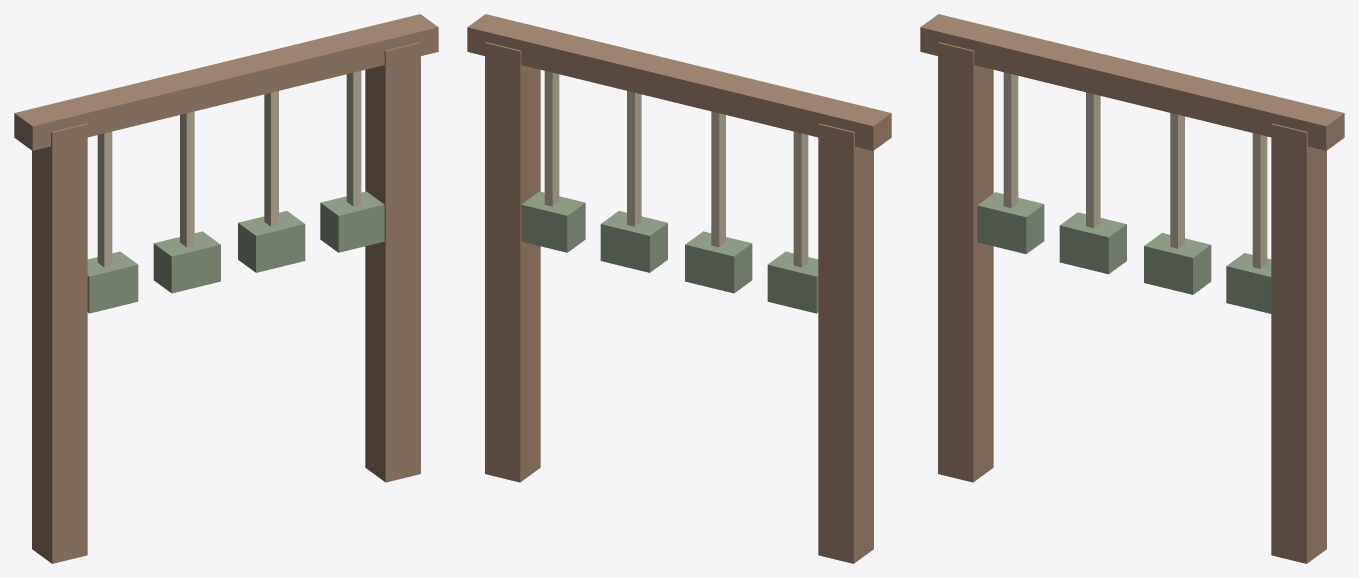
File: village_drying_lines.glb
3 views of the same model, side by side, from view 1: azimuth 30°, elevation 25°; view 2: azimuth 150°, elevation 25°; view 3: azimuth 330°, elevation 25° (orthographic).
Parts seen in each view (by area): view 1: box_0, box_1, box_2, box_6, box_8, box_10, box_4, box_3, box_9, box_5, box_7; view 2: box_0, box_1, box_2, box_6, box_8, box_10, box_4, box_3, box_9, box_5, box_7; view 3: box_1, box_0, box_2, box_8, box_4, box_6, box_10, box_9, box_3, box_7, box_5.
Boxes of the visible parts, bbox=[...] form: box_0: bbox=[32, 123, 87, 563]; box_1: bbox=[365, 42, 420, 482]; box_2: bbox=[14, 14, 438, 150]; box_6: bbox=[153, 231, 220, 293]; box_8: bbox=[238, 211, 305, 272]; box_10: bbox=[320, 191, 384, 252]; box_4: bbox=[87, 251, 138, 313]; box_3: bbox=[97, 131, 112, 267]; box_9: bbox=[346, 71, 361, 206]; box_5: bbox=[180, 111, 194, 247]; box_7: bbox=[264, 91, 278, 226]; box_0: bbox=[818, 123, 873, 563]; box_1: bbox=[485, 42, 540, 482]; box_2: bbox=[467, 14, 891, 150]; box_6: bbox=[685, 231, 752, 293]; box_8: bbox=[600, 211, 667, 272]; box_10: bbox=[521, 191, 585, 252]; box_4: bbox=[767, 251, 818, 313]; box_3: bbox=[793, 131, 808, 267]; box_9: bbox=[544, 71, 559, 206]; box_5: bbox=[711, 111, 725, 247]; box_7: bbox=[627, 91, 641, 226]; box_1: bbox=[1271, 123, 1326, 563]; box_0: bbox=[938, 42, 993, 482]; box_2: bbox=[920, 14, 1344, 150]; box_8: bbox=[1144, 233, 1211, 294]; box_4: bbox=[977, 192, 1044, 254]; box_6: bbox=[1059, 212, 1126, 274]; box_10: bbox=[1226, 253, 1271, 313]; box_9: bbox=[1252, 133, 1267, 268]; box_3: bbox=[1003, 72, 1018, 207]; box_7: bbox=[1170, 113, 1184, 248]; box_5: bbox=[1086, 92, 1100, 228].
Bounding box in the file's own units: 2.07 × 2.15 × 0.18.
